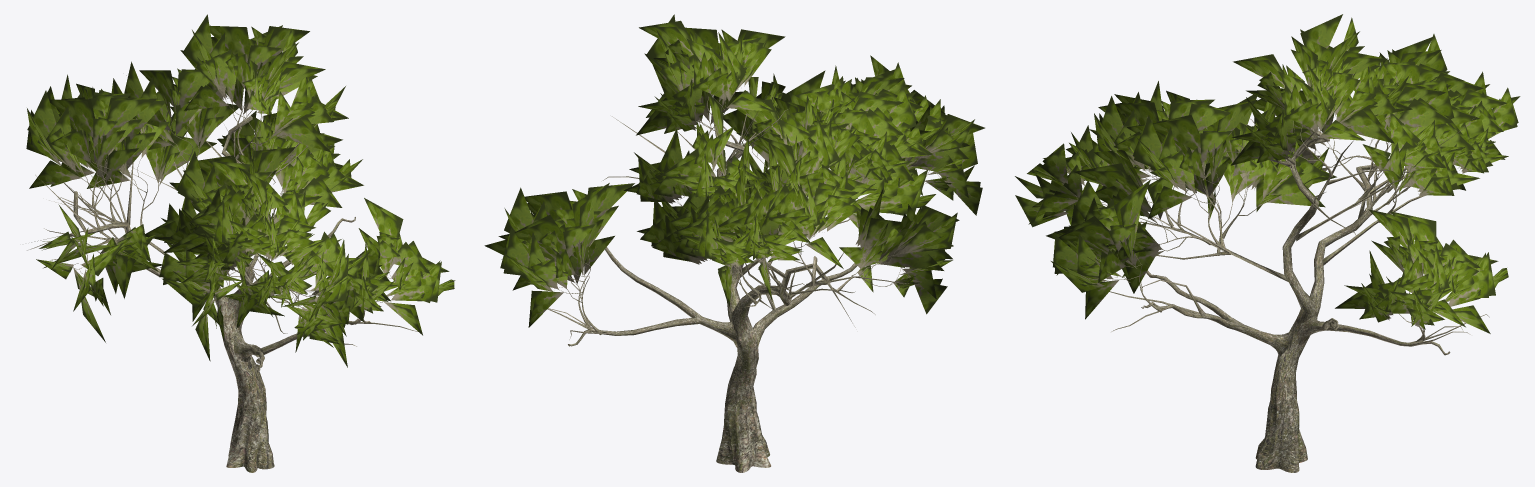
The model's file is oak8.obj.
3 views of the same model, side by side, from view 1: azimuth 30°, elevation 25°; view 2: azimuth 150°, elevation 25°; view 3: azimuth 270°, elevation 25° (orthographic). The views are drawn at different scales.
Parts seen in each view (by area): view 1: oak leaf, mossybark03; view 2: oak leaf, mossybark03; view 3: oak leaf, mossybark03.
Boxes of the visible parts, x1=… form: oak leaf: x1=26, y1=14, x2=455, y2=367; mossybark03: x1=27, y1=75, x2=417, y2=472; oak leaf: x1=484, y1=14, x2=984, y2=327; mossybark03: x1=547, y1=89, x2=943, y2=472; oak leaf: x1=1015, y1=14, x2=1520, y2=333; mossybark03: x1=1073, y1=101, x2=1489, y2=472.
Bounding box in the file's own units: 802 × 886 × 922.
2 materials, 2 textured.
